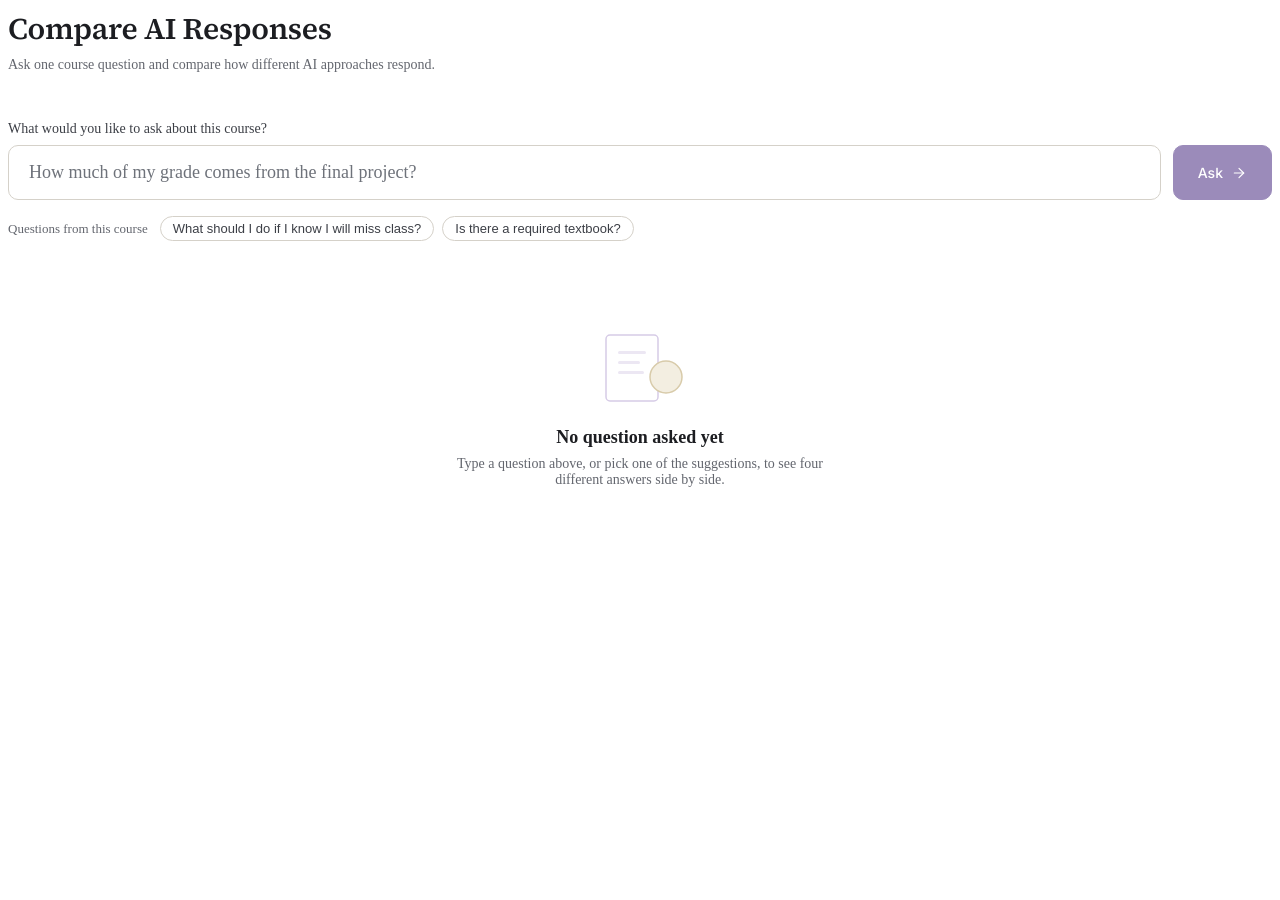
Test: ComparePage manual comparison runs › disables submit buttons and shows a loading label while a comparison is running
The image size is (1280, 900).
Click the button "What should I do if I know I will miss class?" at (297, 228), box left=160, top=216, right=434, bottom=241
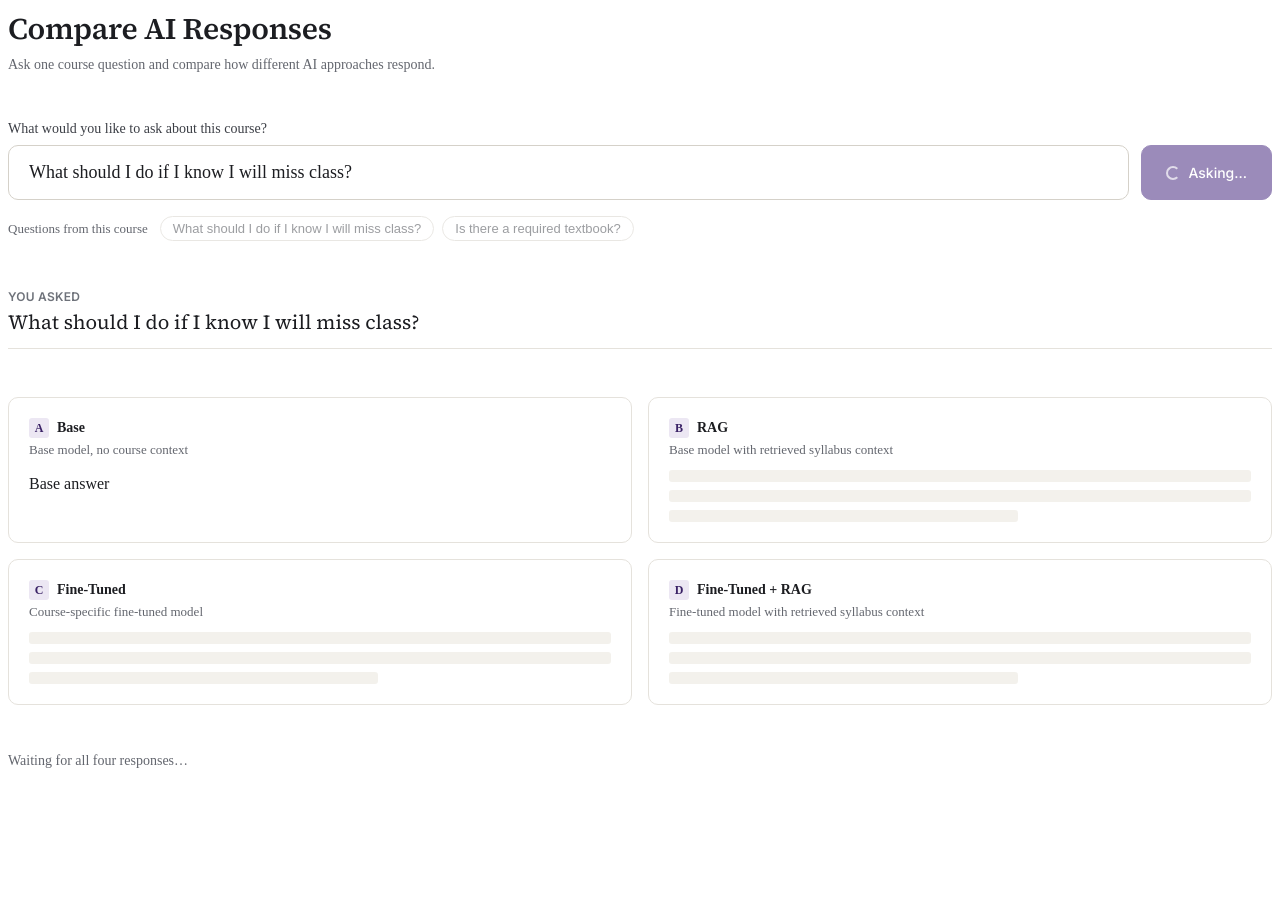
Expected: the button "Asking…" is disabled, left=1141, top=145, right=1272, bottom=200
Now the button "What should I do if I know I will miss class?" is disabled, box left=160, top=216, right=434, bottom=241
